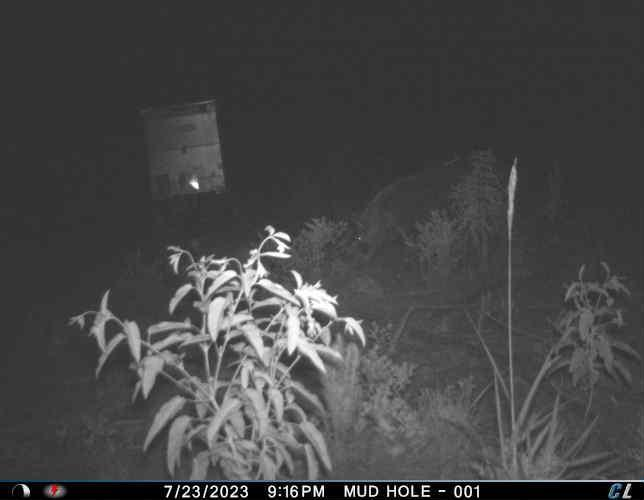Hog: (353, 161, 478, 266)
